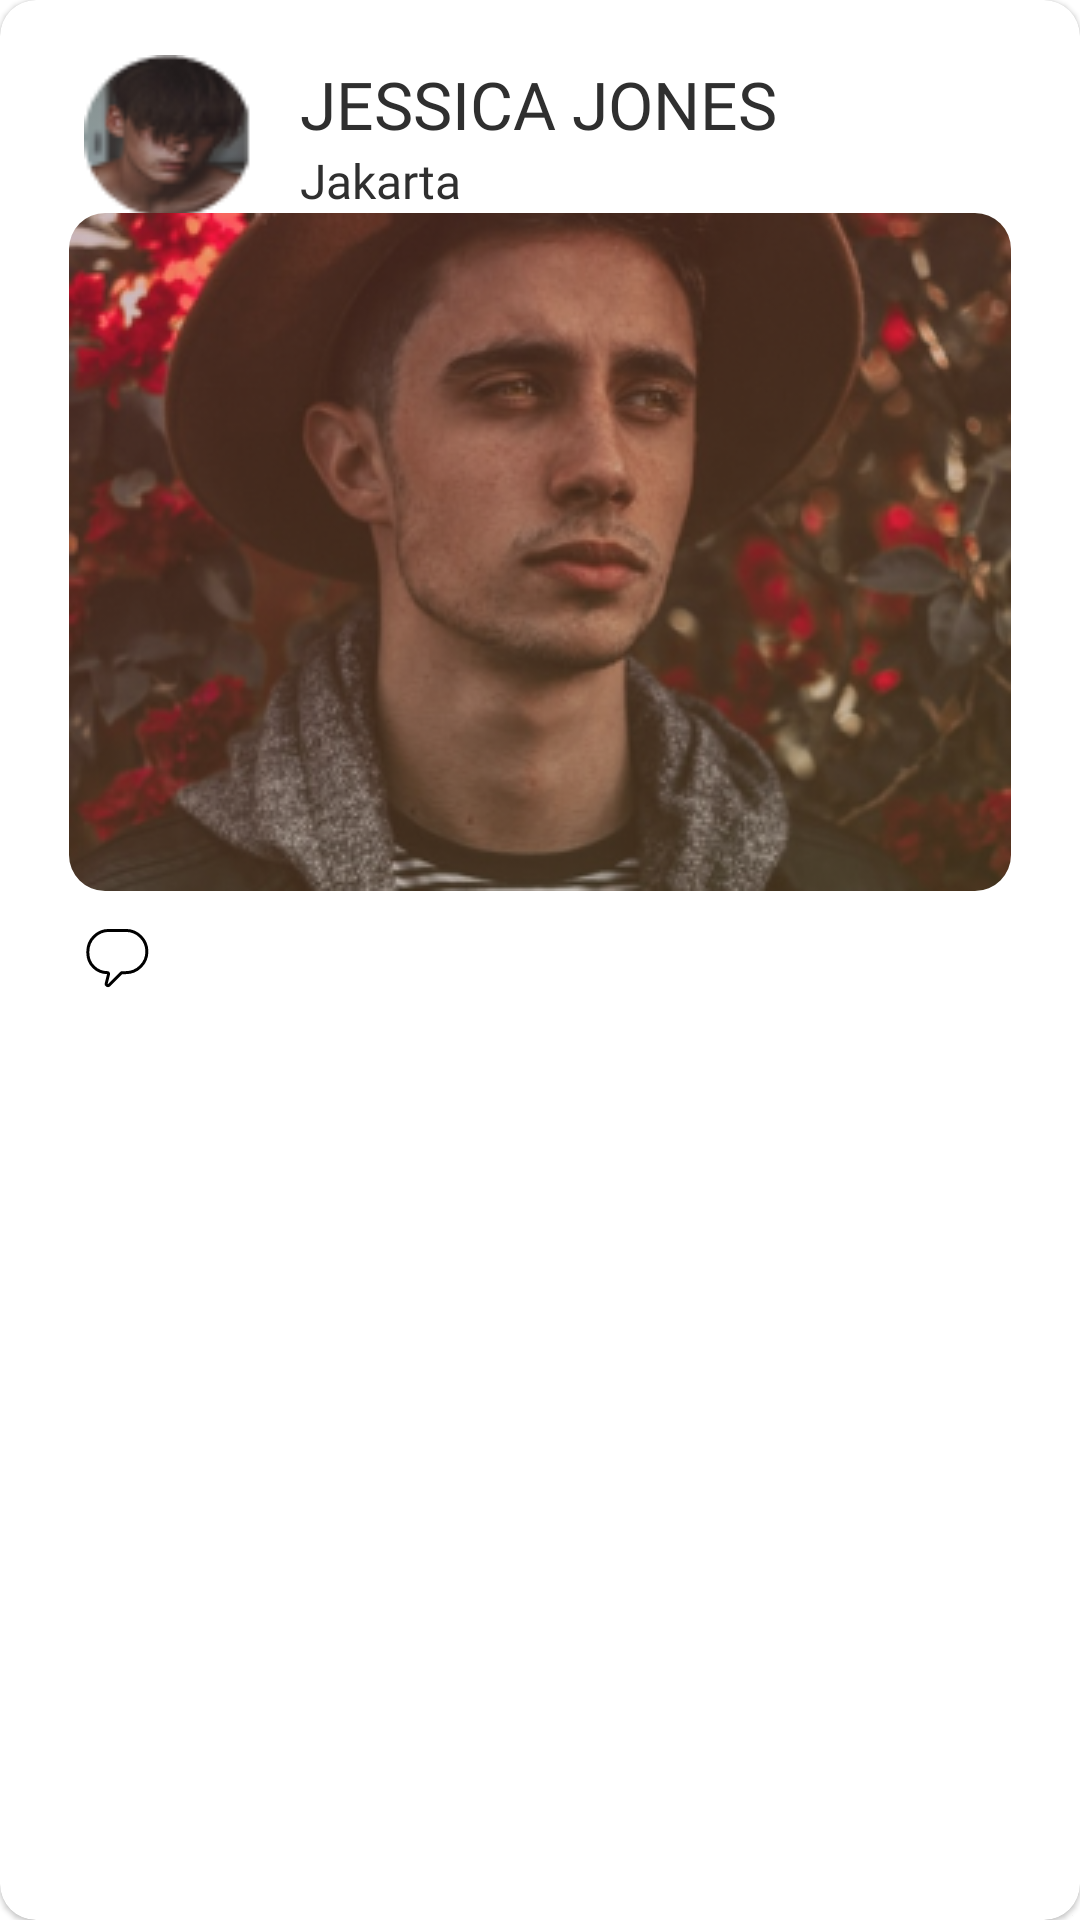

Where to tap for icons on this 1080 x 1920 app screen, as point (x, y):
Image of Photo Profile: point (168, 138)
